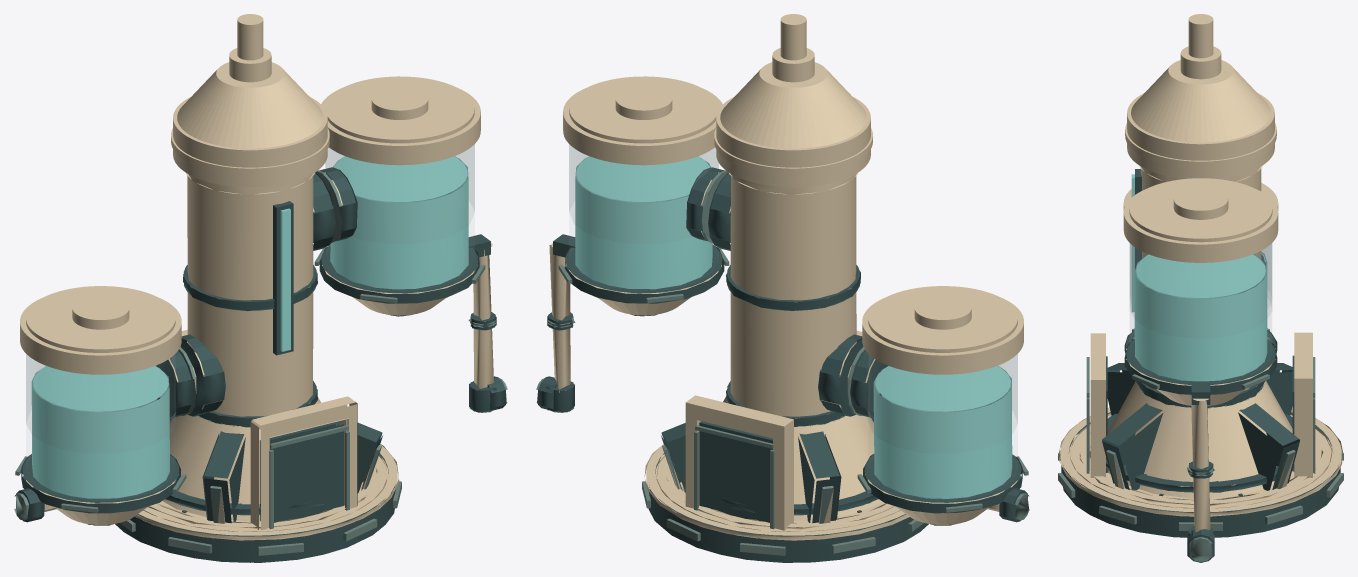
File: Vat_T2.glb
The picture shows the model from 3 angles, left to right: view 1: azimuth 30°, elevation 25°; view 2: azimuth 150°, elevation 25°; view 3: azimuth 270°, elevation 25°; orthographic projection. The views are drawn at different scales.
Parts seen in each view (by area): view 1: Vat_T2; view 2: Vat_T2; view 3: Vat_T2.
Boxes of the visible parts, bbox=[...] form: Vat_T2: bbox=[14, 14, 507, 562]; Vat_T2: bbox=[536, 14, 1029, 562]; Vat_T2: bbox=[1058, 14, 1343, 562].
Size of the model in its own units: 6.83 by 6.61 by 3.67.
